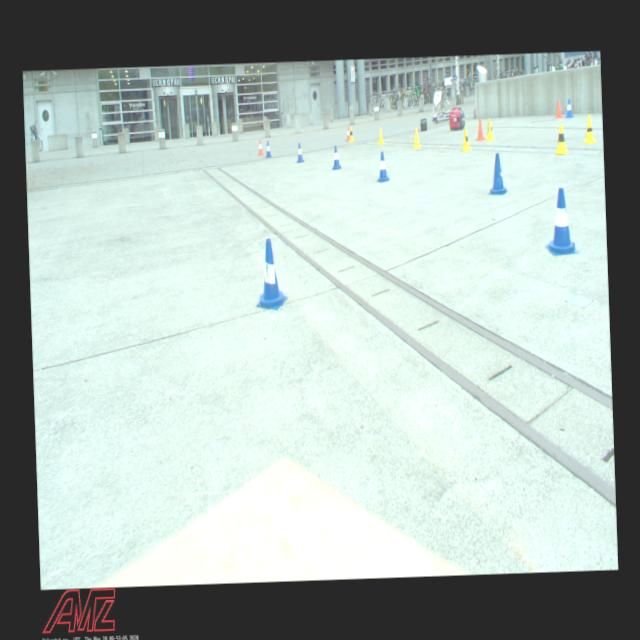blue_cone: (254, 240, 288, 310), (544, 187, 577, 254), (487, 152, 508, 196), (374, 152, 390, 182), (330, 146, 342, 170), (294, 143, 305, 162), (564, 98, 574, 117), (262, 140, 272, 158)
orange_cone: (474, 119, 485, 141), (256, 138, 264, 156), (554, 100, 562, 118), (344, 126, 350, 141)
yellow_cone: (552, 123, 570, 154), (581, 115, 598, 144), (460, 127, 472, 151), (410, 128, 423, 148), (484, 118, 495, 140), (347, 126, 354, 142)
